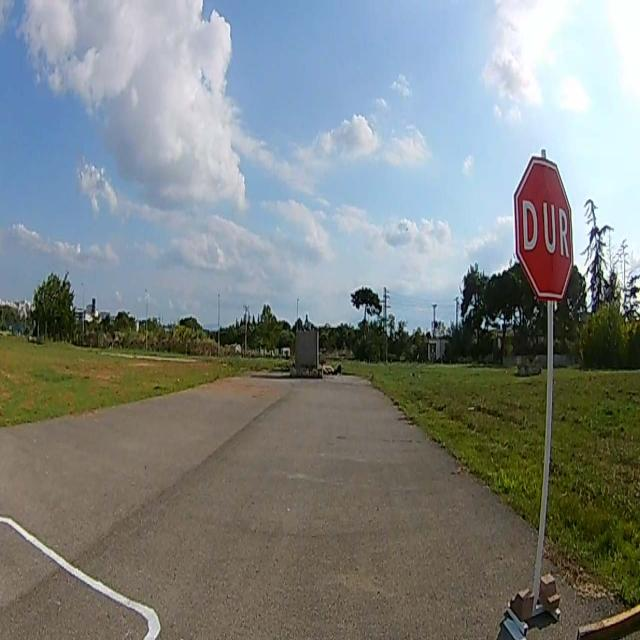dur: (513, 155, 573, 302)
